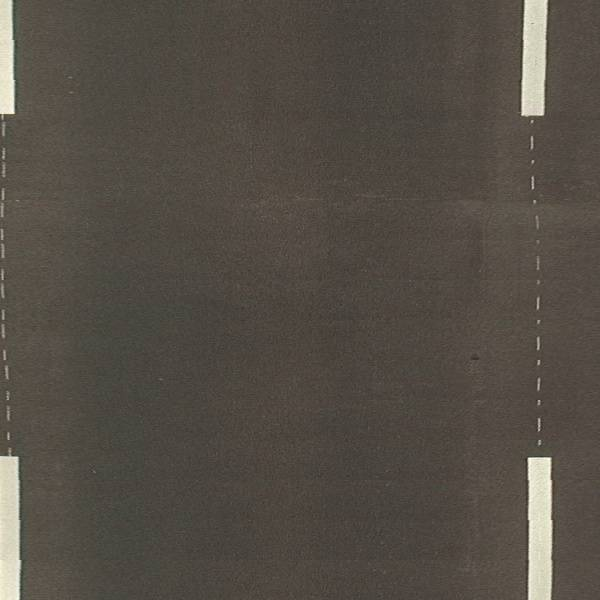road_damage: (237, 178, 499, 230), (459, 379, 499, 581)
